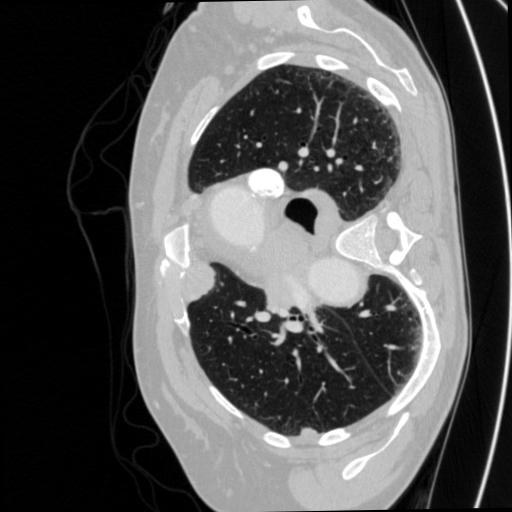nodule: (300, 422, 316, 438)
